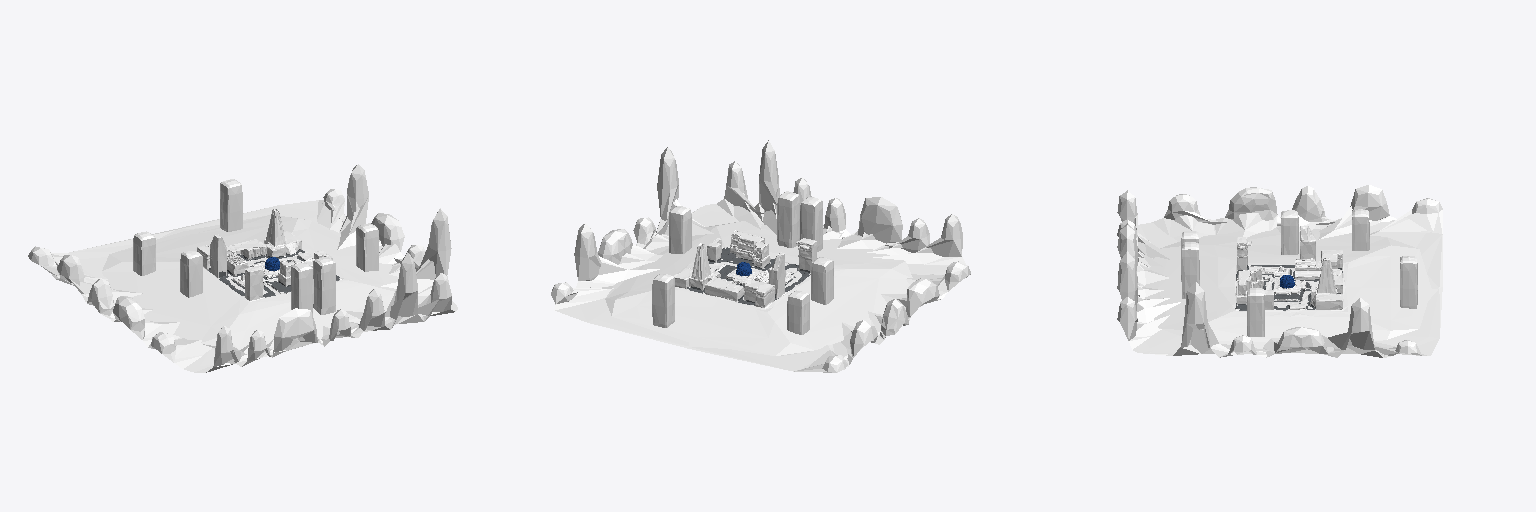
The picture shows the model from 3 angles: view 1: azimuth 30°, elevation 25°; view 2: azimuth 150°, elevation 25°; view 3: azimuth 270°, elevation 25°; orthographic projection.
Parts seen in each view (by area): view 1: cube1, cube4_copy9, cube4_copy6, cube4_copy7, cube4_copy8, cube4, cube4_copy5; view 2: cube1, cube4_copy9, cube4_copy6, cube4_copy7, cube4, cube4_copy8, cube4_copy5; view 3: cube1, cube4_copy6, cube4_copy7, cube4_copy9, cube4, cube4_copy5.
Boxes of the visible parts, <box> form: cube1: <box>28,164,457,372</box>; cube4_copy9: <box>313,257,335,314</box>; cube4_copy6: <box>220,179,242,231</box>; cube4_copy7: <box>356,223,378,271</box>; cube4_copy8: <box>291,263,313,313</box>; cube4: <box>180,250,202,297</box>; cube4_copy5: <box>133,231,155,275</box>; cube1: <box>551,140,970,372</box>; cube4_copy9: <box>777,191,799,247</box>; cube4_copy6: <box>652,273,674,327</box>; cube4_copy7: <box>669,206,691,253</box>; cube4: <box>811,257,833,304</box>; cube4_copy8: <box>800,197,822,251</box>; cube4_copy5: <box>787,290,809,334</box>; cube1: <box>1117,185,1442,357</box>; cube4_copy6: <box>1400,256,1417,308</box>; cube4_copy7: <box>1247,288,1264,336</box>; cube4_copy9: <box>1182,242,1199,298</box>; cube4: <box>1281,210,1298,254</box>; cube4_copy5: <box>1352,209,1369,250</box>.
Size of the model in its own units: 72.73 by 20.12 by 67.73.